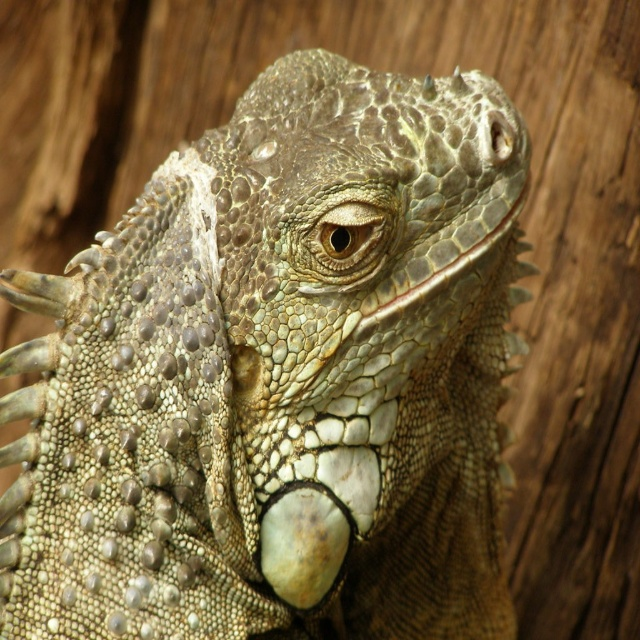Lizard: (6, 31, 535, 640)
